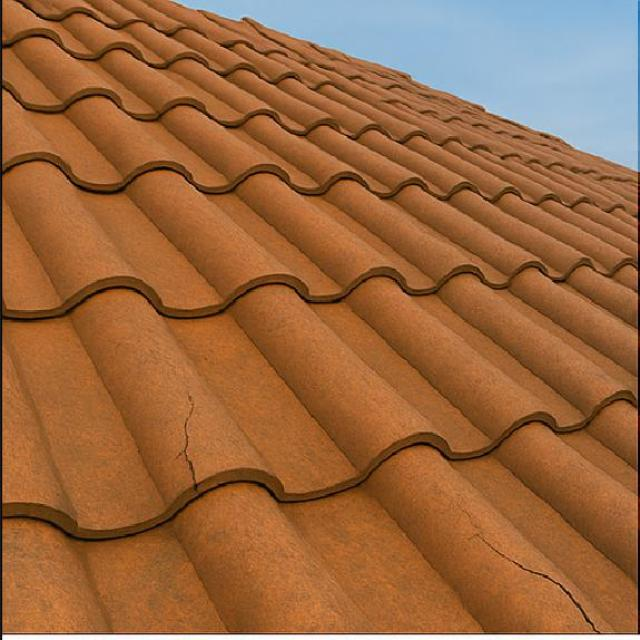fissure: (458, 504, 608, 637), (163, 389, 209, 497)
